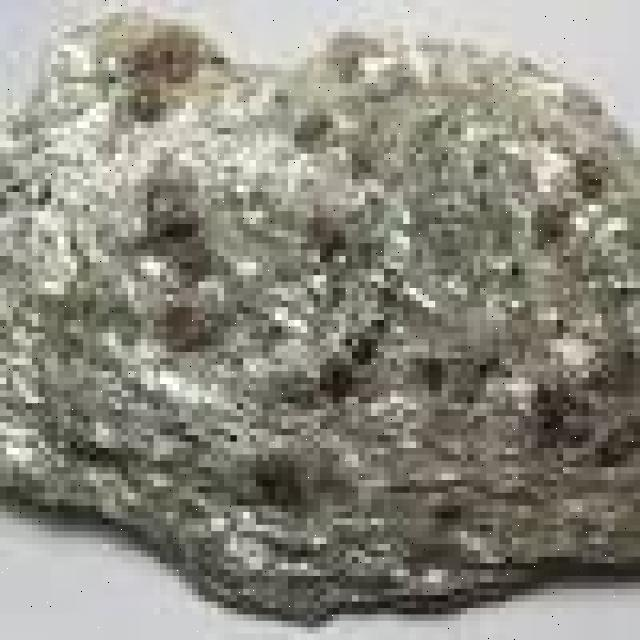Metamorphic: (6, 6, 634, 634)
